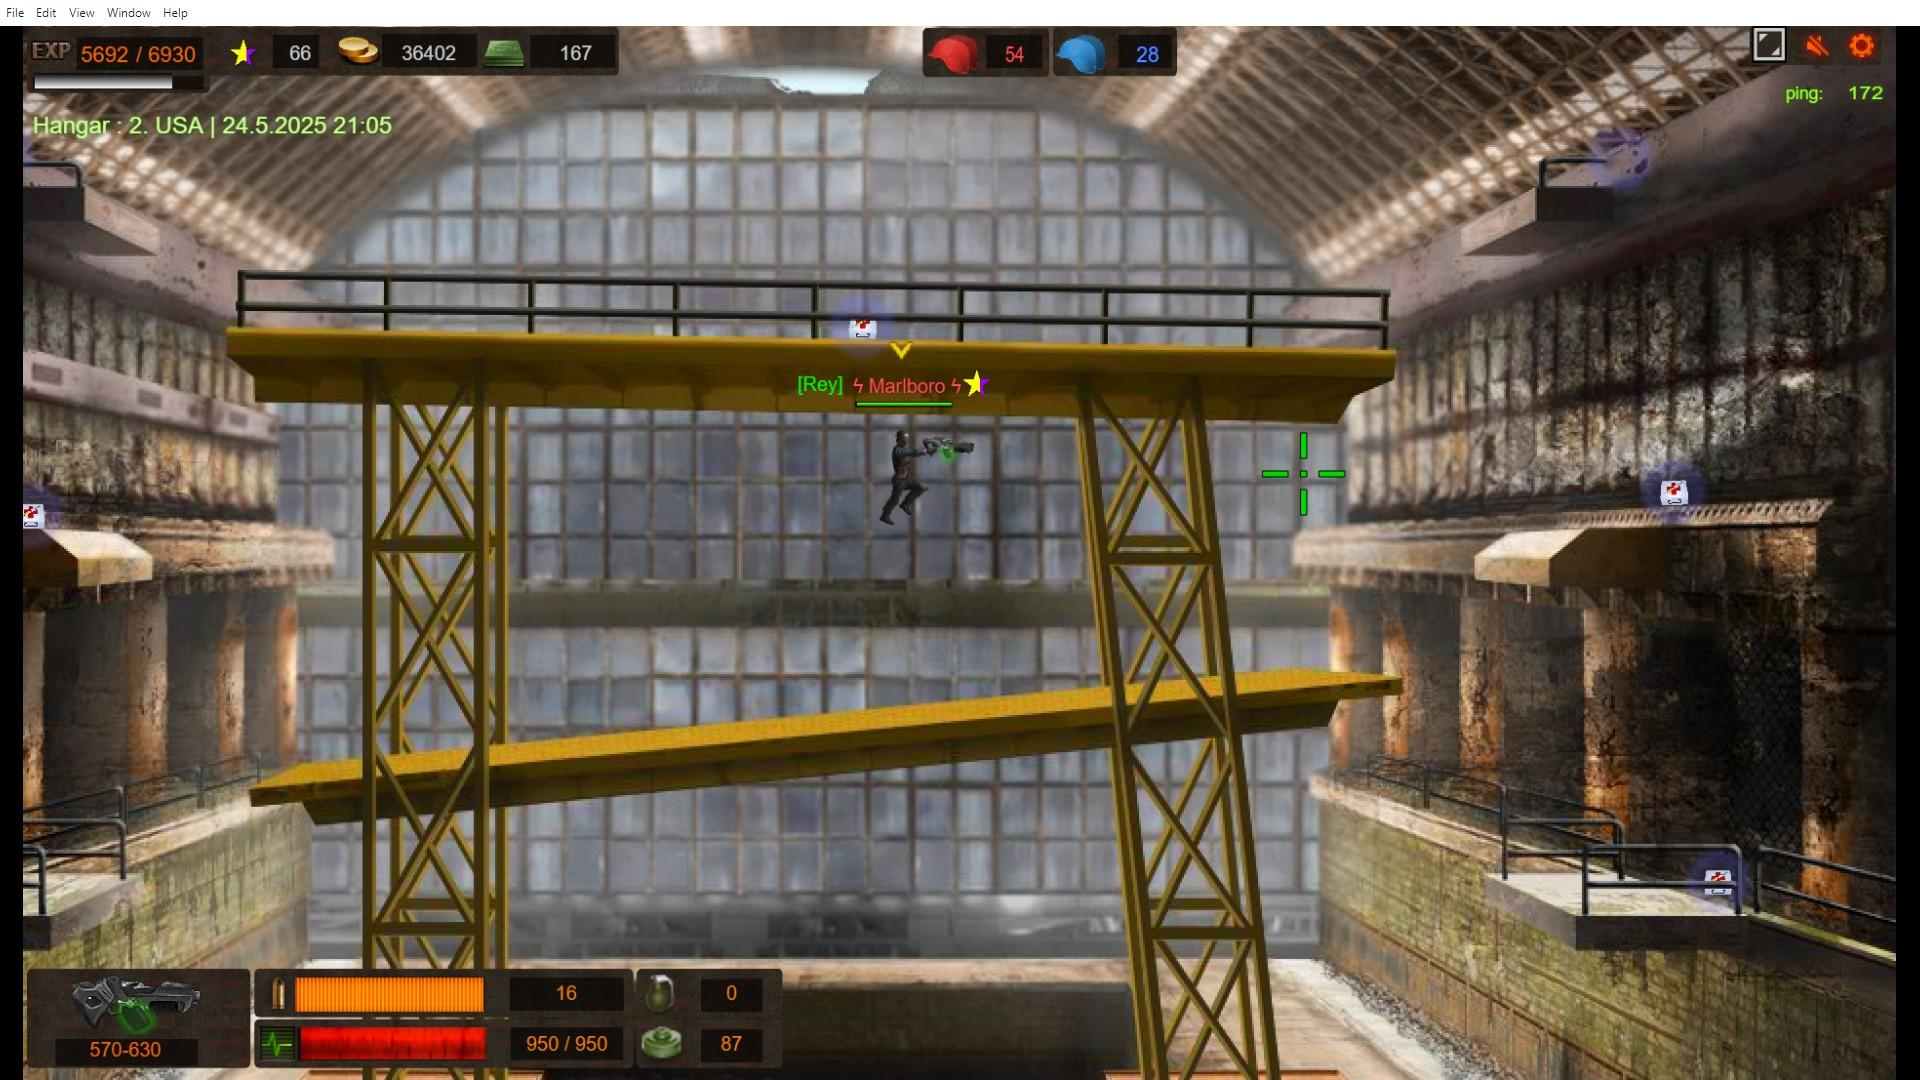enemy: (893, 433, 916, 526)
